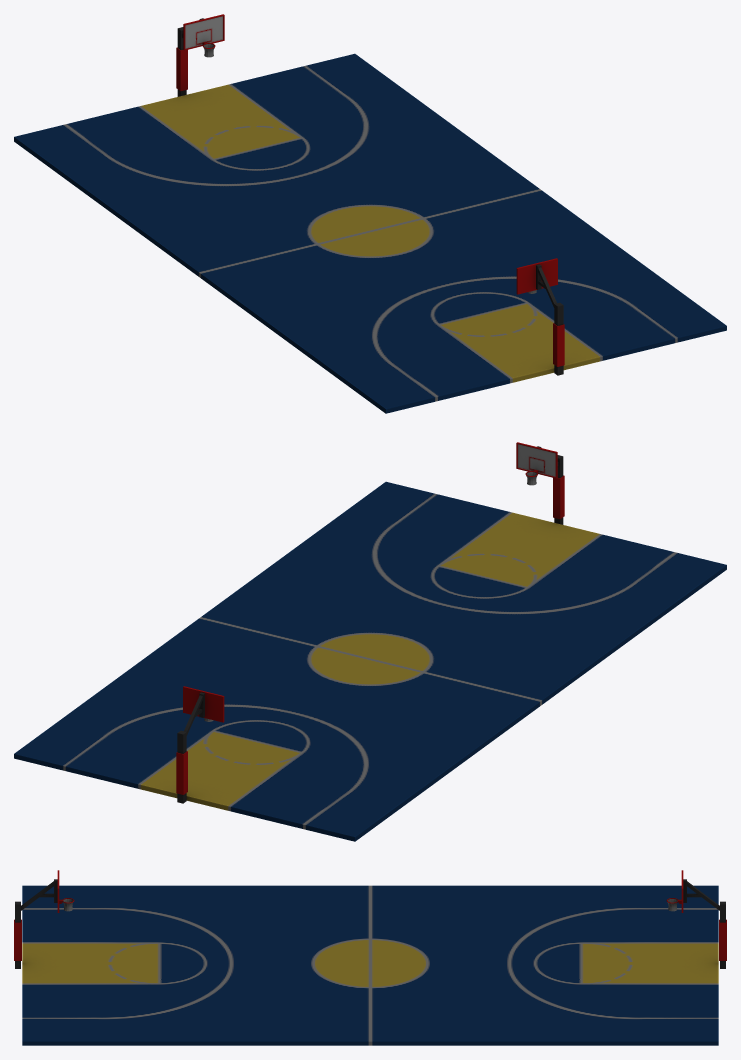
File: BasketBallCourt.gltf
3 renders of one model, top to bottom at view 1: azimuth 30°, elevation 25°; view 2: azimuth 150°, elevation 25°; view 3: azimuth 270°, elevation 25°, orthographic. The views are drawn at different scales.
Visible parts, largest first — view 1: node-0; view 2: node-0; view 3: node-0.
Boxes of the visible parts, x1,y1,x2,y2 form: node-0: (14, 14, 726, 413); node-0: (14, 442, 726, 841); node-0: (14, 870, 726, 1045).
Size of the model in its own units: 15.2 by 4.03 by 29.4.
Materials: 1 (1 with a texture image).
